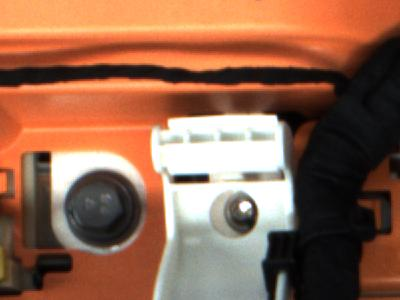nut_b: (60, 167, 142, 250)
screw_m: (222, 188, 262, 237)
